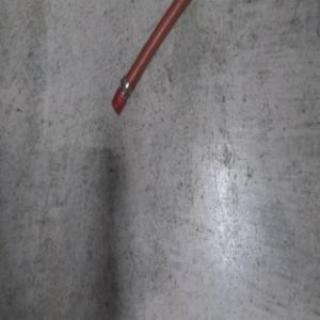Hosetrack_idkeyframe: (111, 0, 202, 118)
